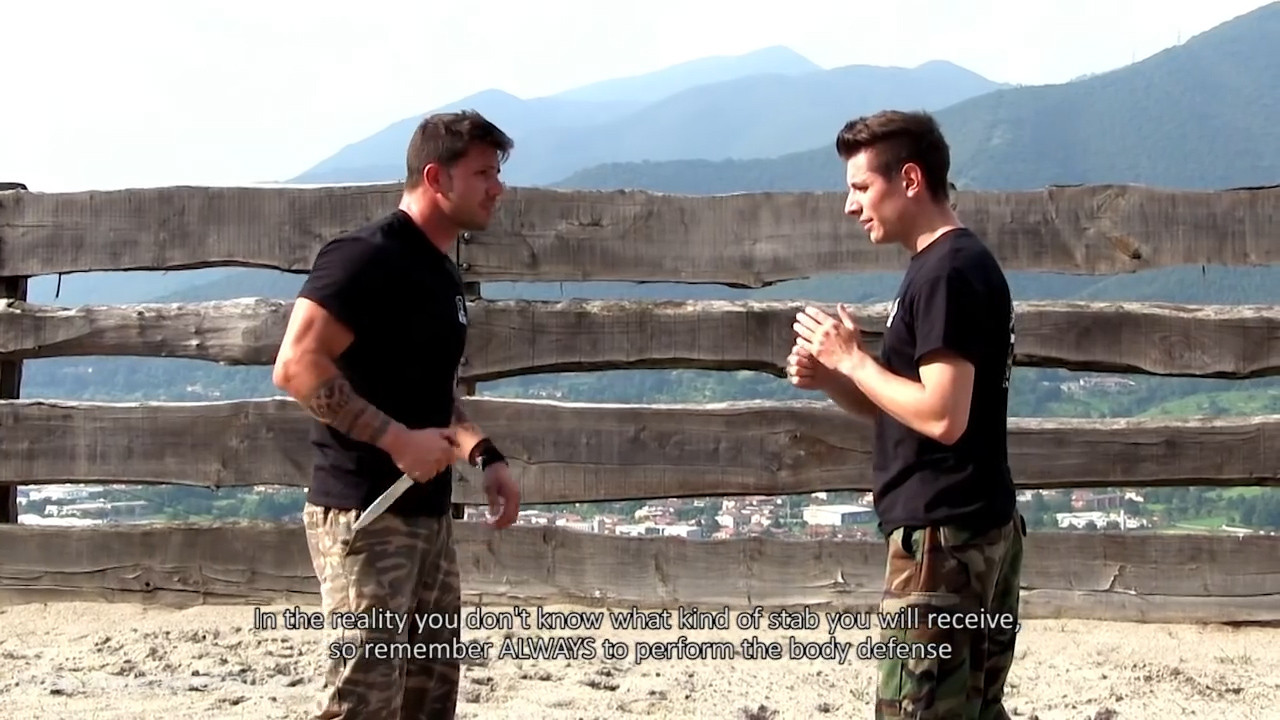knife: (341, 430, 458, 534)
